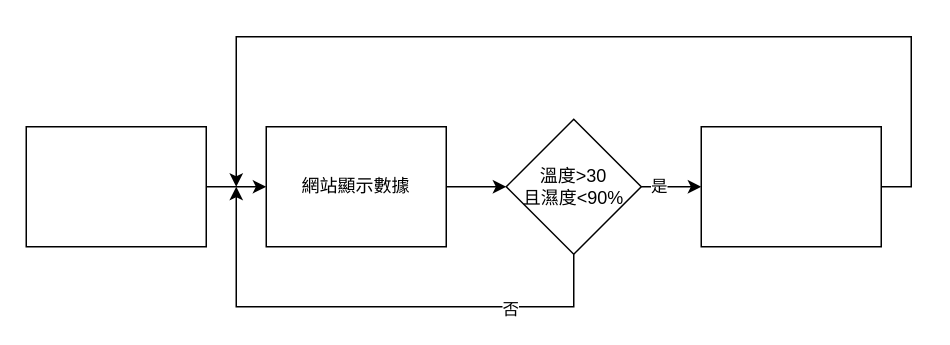
Some shapes in this 950 by 345 pixel diagram are drawn without their labels. The box of each missing label's shape, as (x1, y1, x2, y2) in pixels:
DHT11連接電源 開始偵測溫濕度: (25, 125, 206, 247)
開啟霧化裝置: (700, 125, 881, 247)
